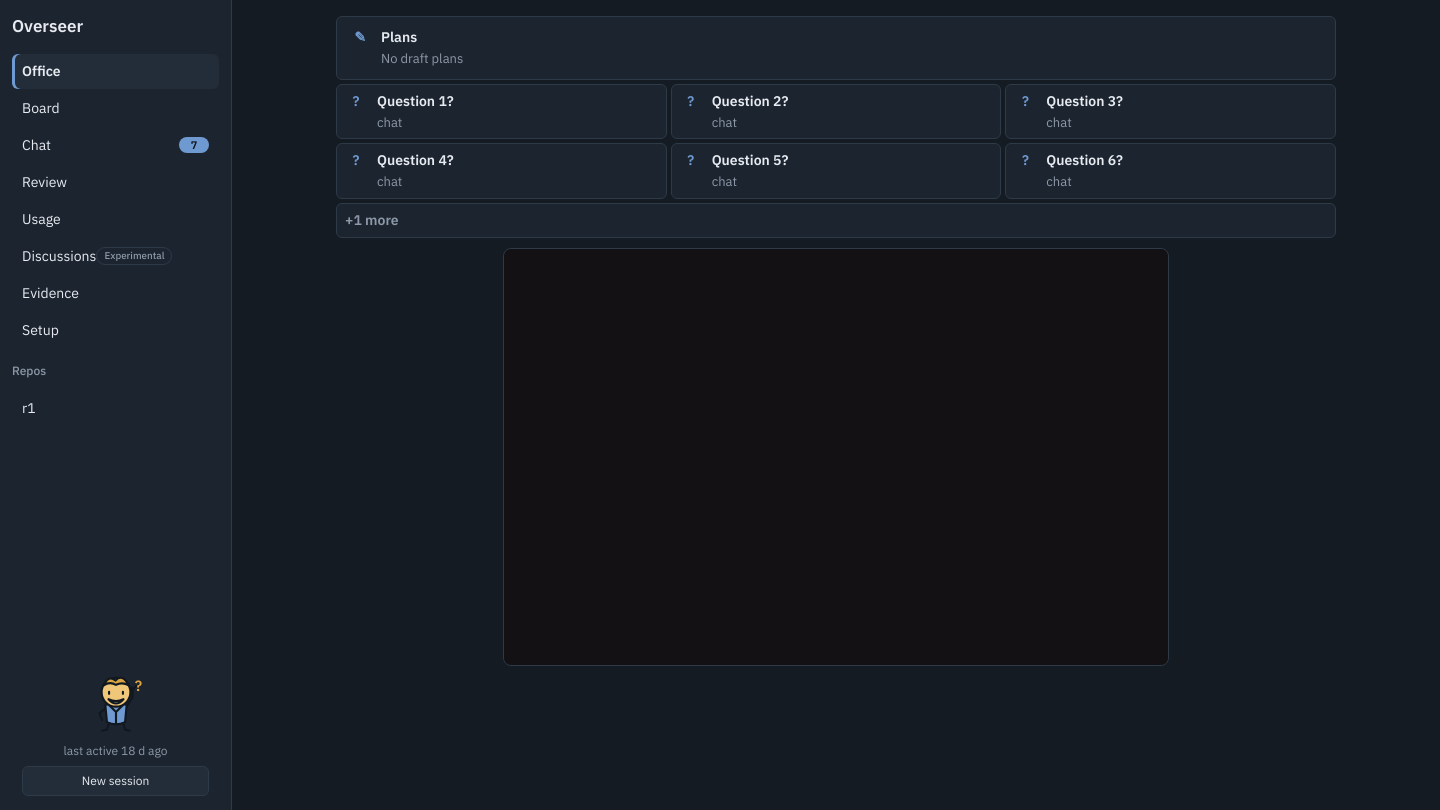
Test: App shimmer gate › shows the Office strip capped again after it was expanded and the user left Office and came back
The width and height of the screenshot is (1440, 810).
Click the button "+1 more" at (372, 220), box x1=336 y1=202 x2=1336 y2=238
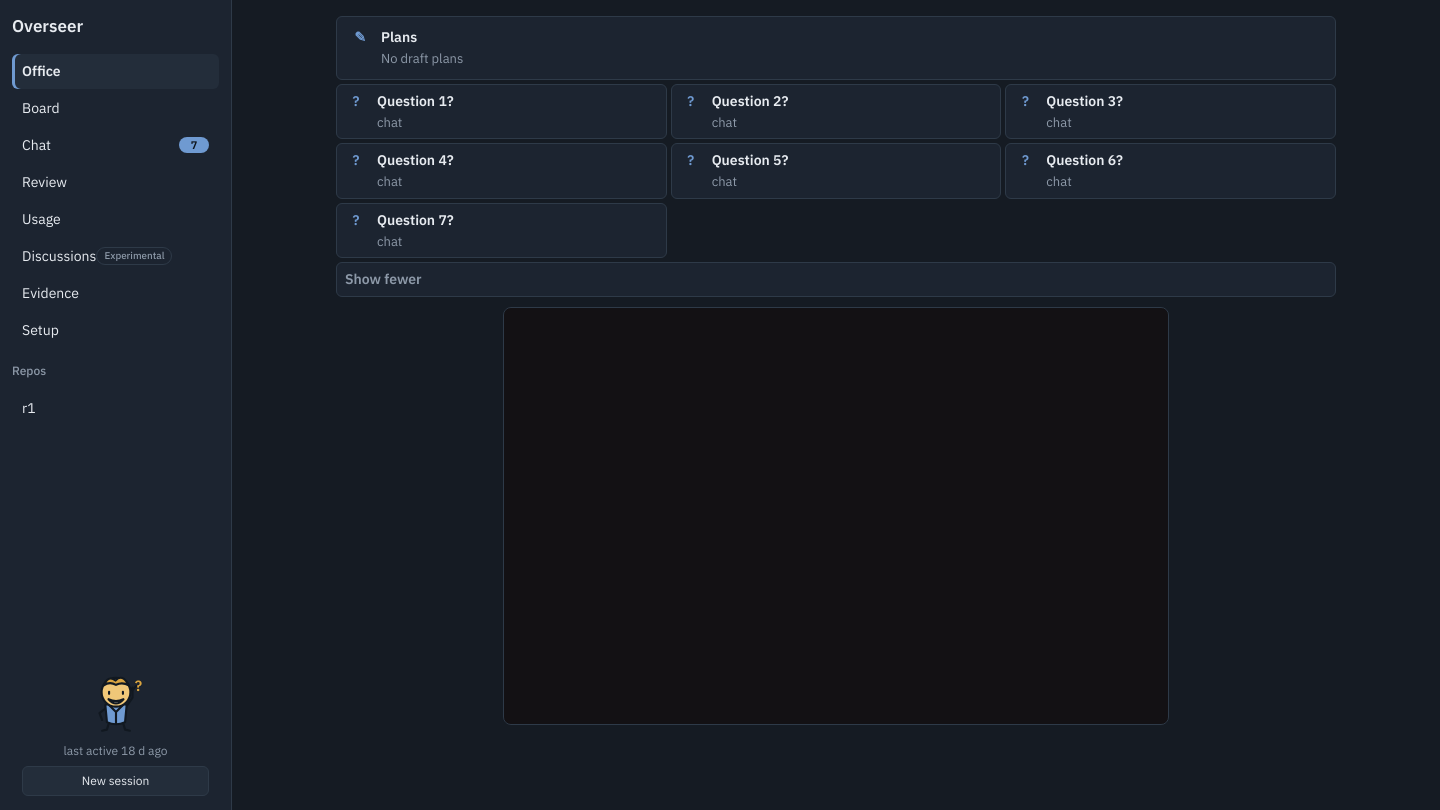
Click the button "Chat 7" at (116, 145), box x1=12 y1=128 x2=219 y2=162
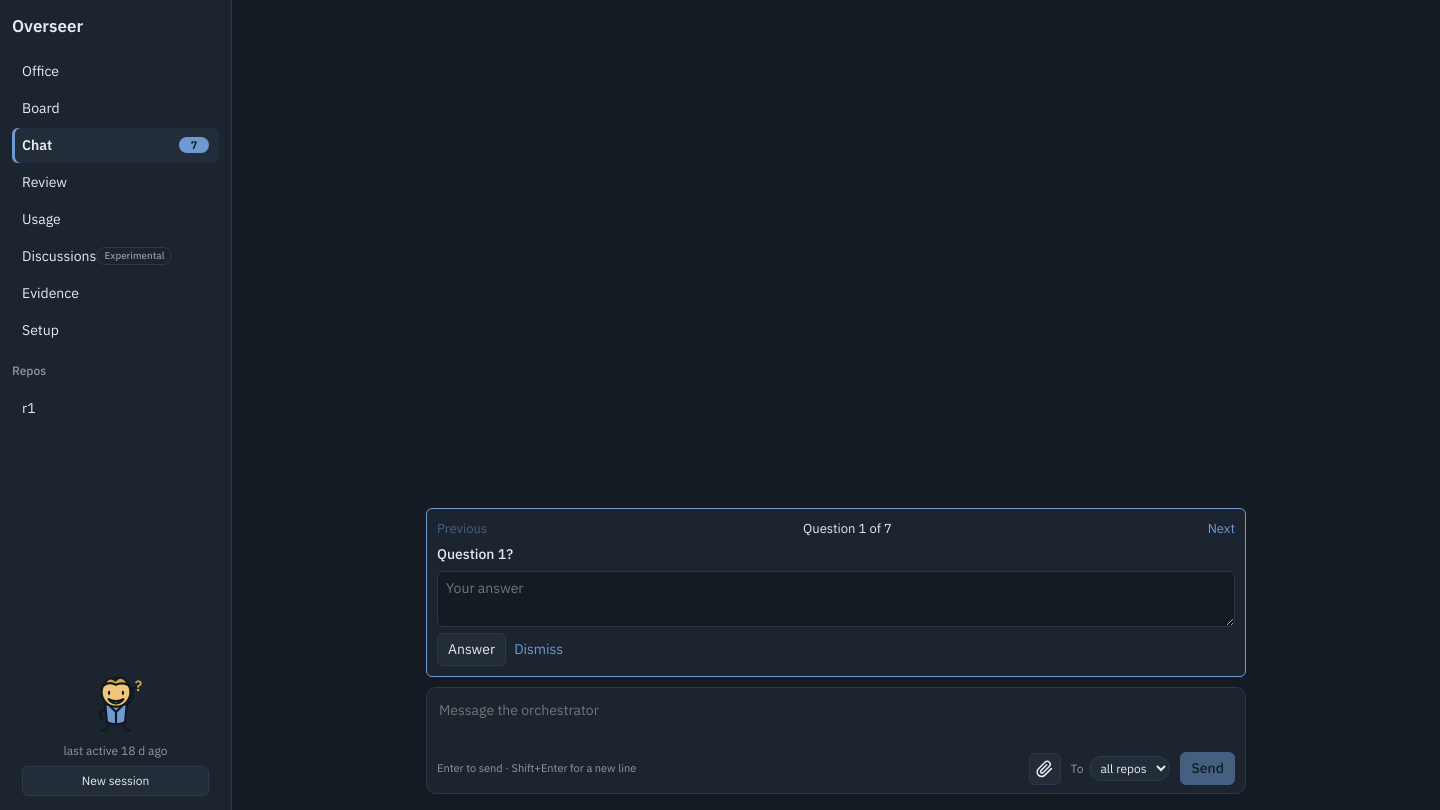
Click the button "Office" at (116, 71), box x1=12 y1=54 x2=219 y2=88
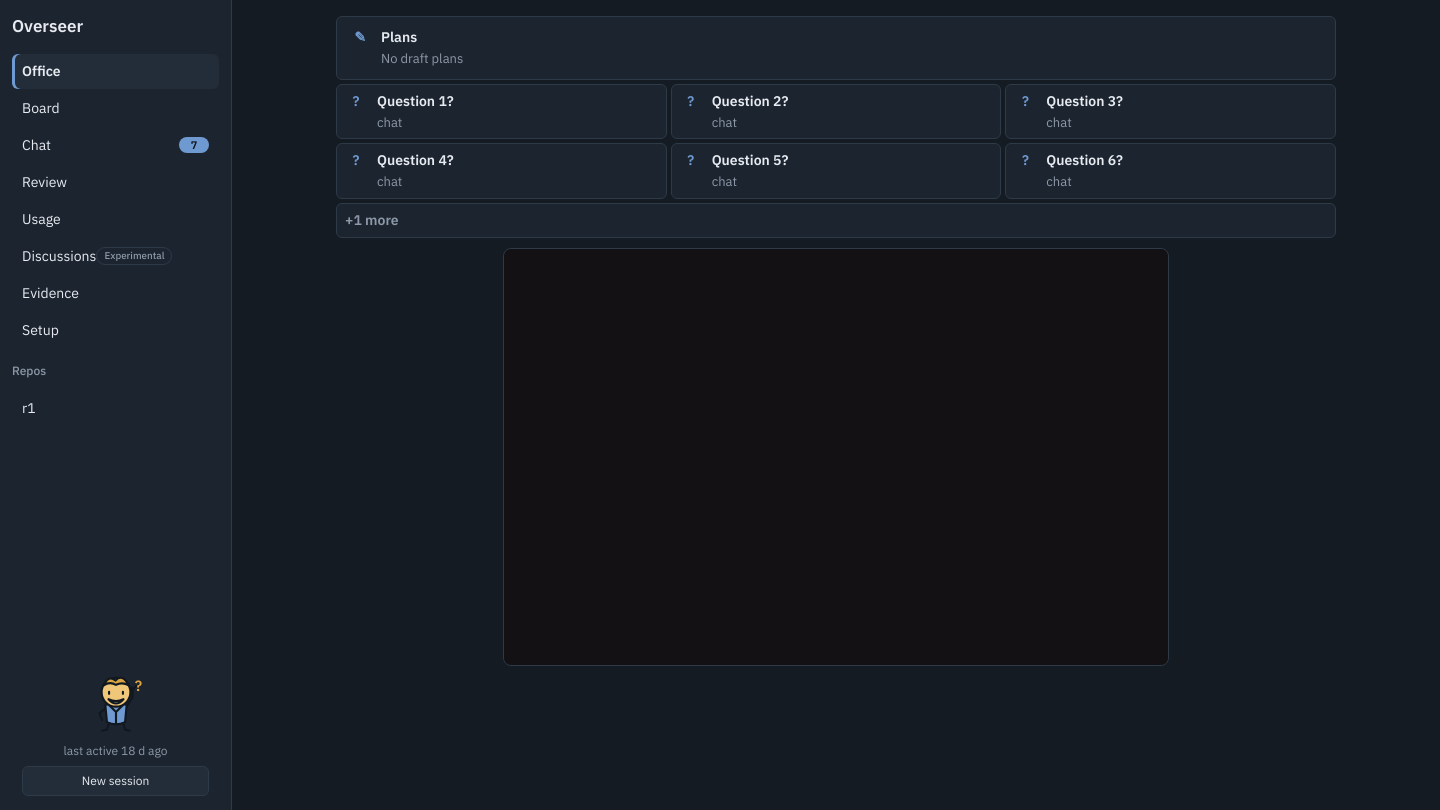
Now the button "+1 more" is shown, box x1=336 y1=202 x2=1336 y2=238
